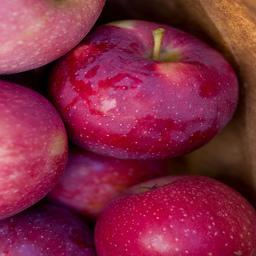apple: (54, 20, 238, 161), (95, 176, 256, 256), (1, 82, 68, 220), (1, 1, 103, 75), (1, 203, 94, 256)
